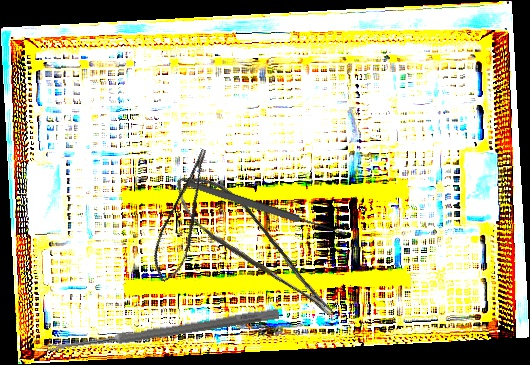Micro Scissor: (164, 156, 340, 343), (141, 146, 231, 287)
Surgical Spoon: (46, 306, 280, 356), (186, 178, 347, 240)
